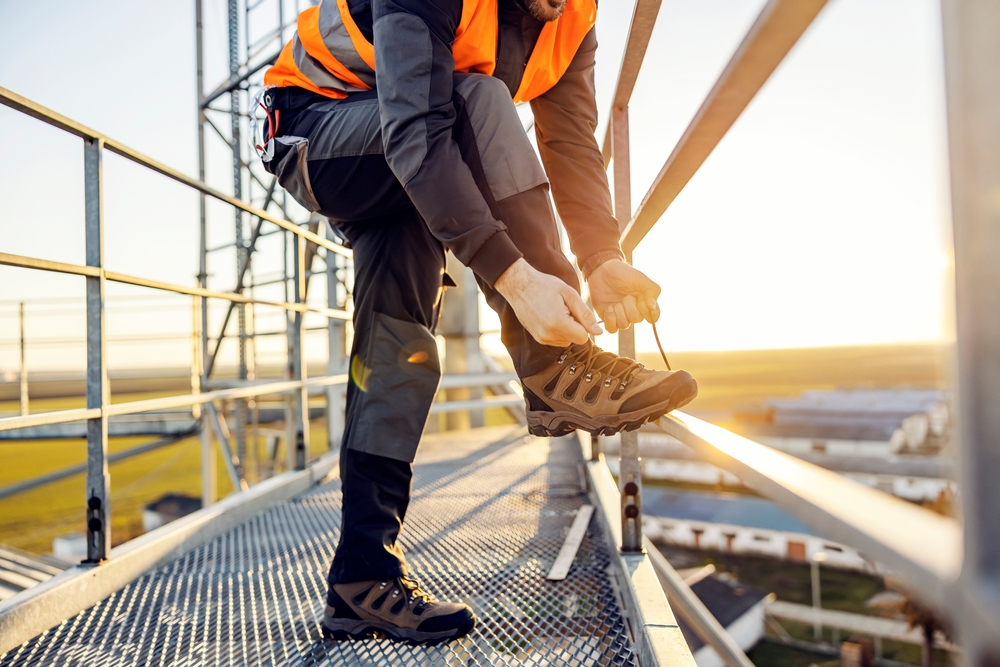Safety Vest: (232, 0, 615, 118)
Steel-toe Boots: (524, 341, 706, 448), (316, 559, 482, 652)
